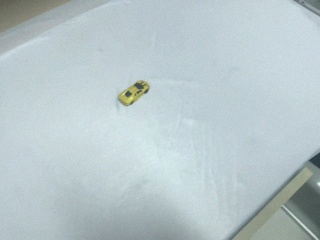toy_car: (118, 80, 150, 105)
